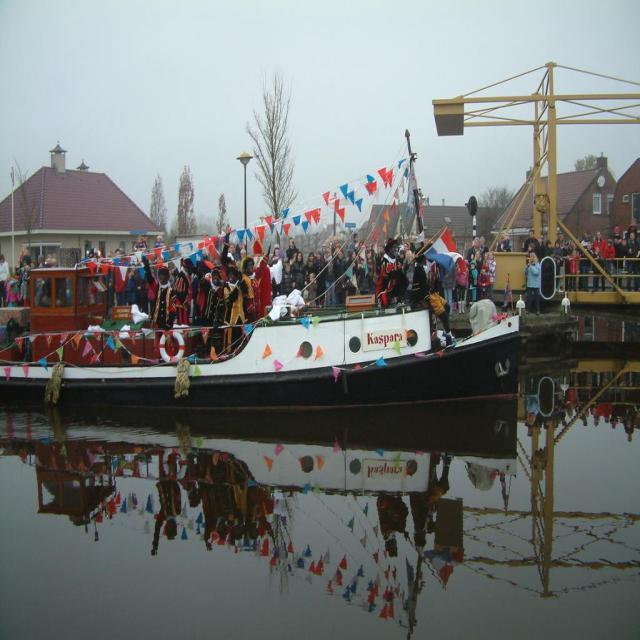Boat: (0, 132, 522, 396)
